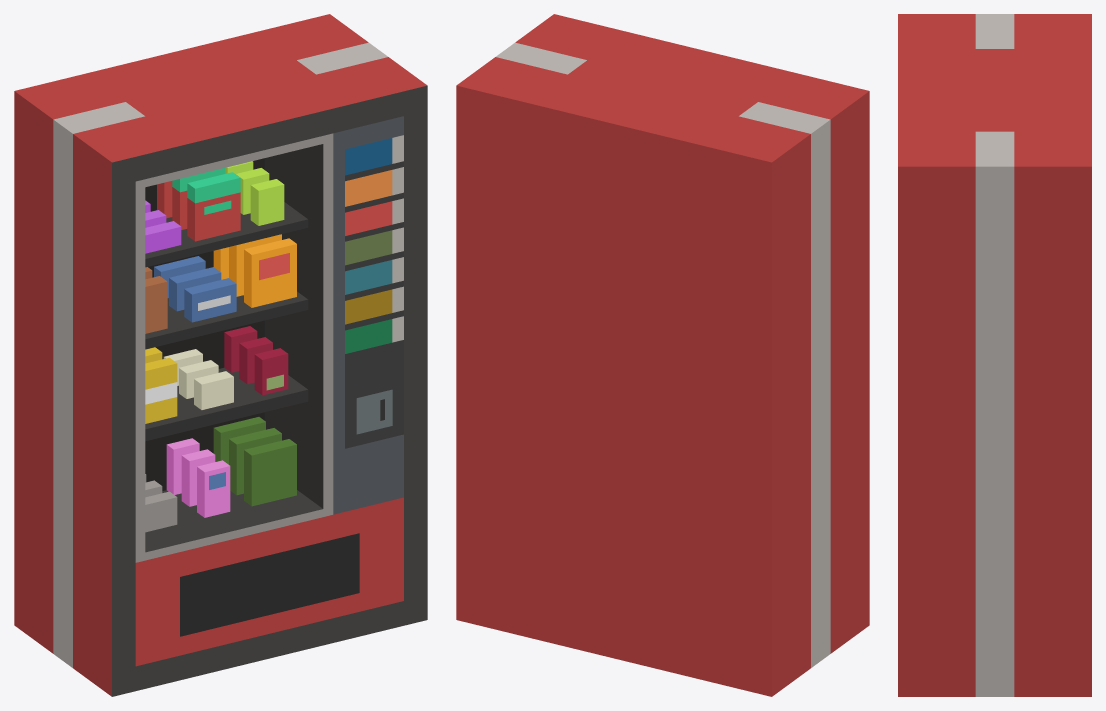
File: VendingMachine.glb
3 renders of one model, left to right at view 1: azimuth 30°, elevation 25°; view 2: azimuth 150°, elevation 25°; view 3: azimuth 270°, elevation 25°, orthographic.
Parts seen in each view (by area): view 1: SI_Prop_Vending_Machine; view 2: SI_Prop_Vending_Machine; view 3: SI_Prop_Vending_Machine.
Boxes of the visible parts, left/top/right/bottom form: SI_Prop_Vending_Machine: left=14, top=14, right=427, bottom=696; SI_Prop_Vending_Machine: left=456, top=14, right=869, bottom=696; SI_Prop_Vending_Machine: left=898, top=14, right=1091, bottom=696.
Bounding box in the file's own units: 0.0206 × 0.0334 × 0.0111.
1 material, 1 textured.
